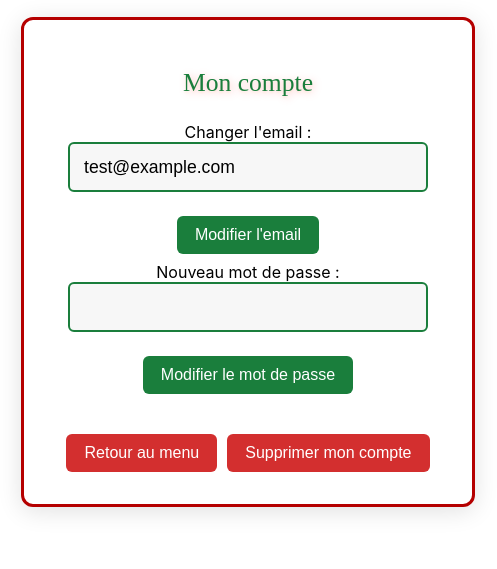
Scenario: Account component › modification de mot de passe affiche un message de succès
Type "nouveauMotDePasse123" into the password field labelled "Nouveau mot de passe :" at (248, 307), box [68,282,428,332]
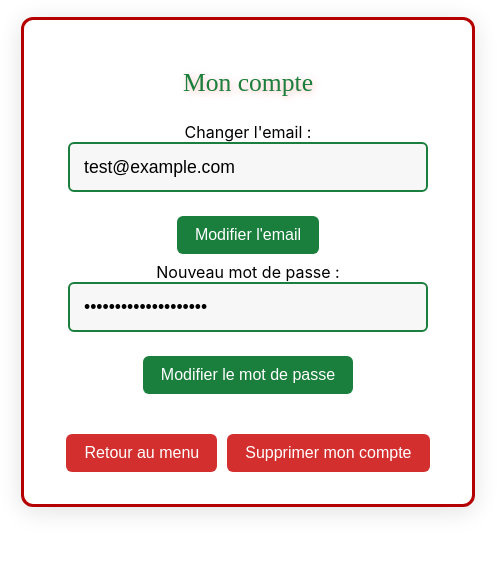
Click the button "Modifier le mot de passe" at (248, 375), box [143,356,353,394]
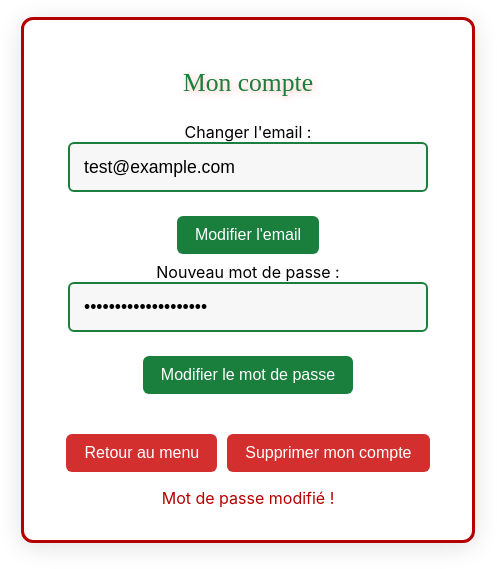
Expected: the text "Mot de passe modifié !" is shown, [162,488,334,508]
